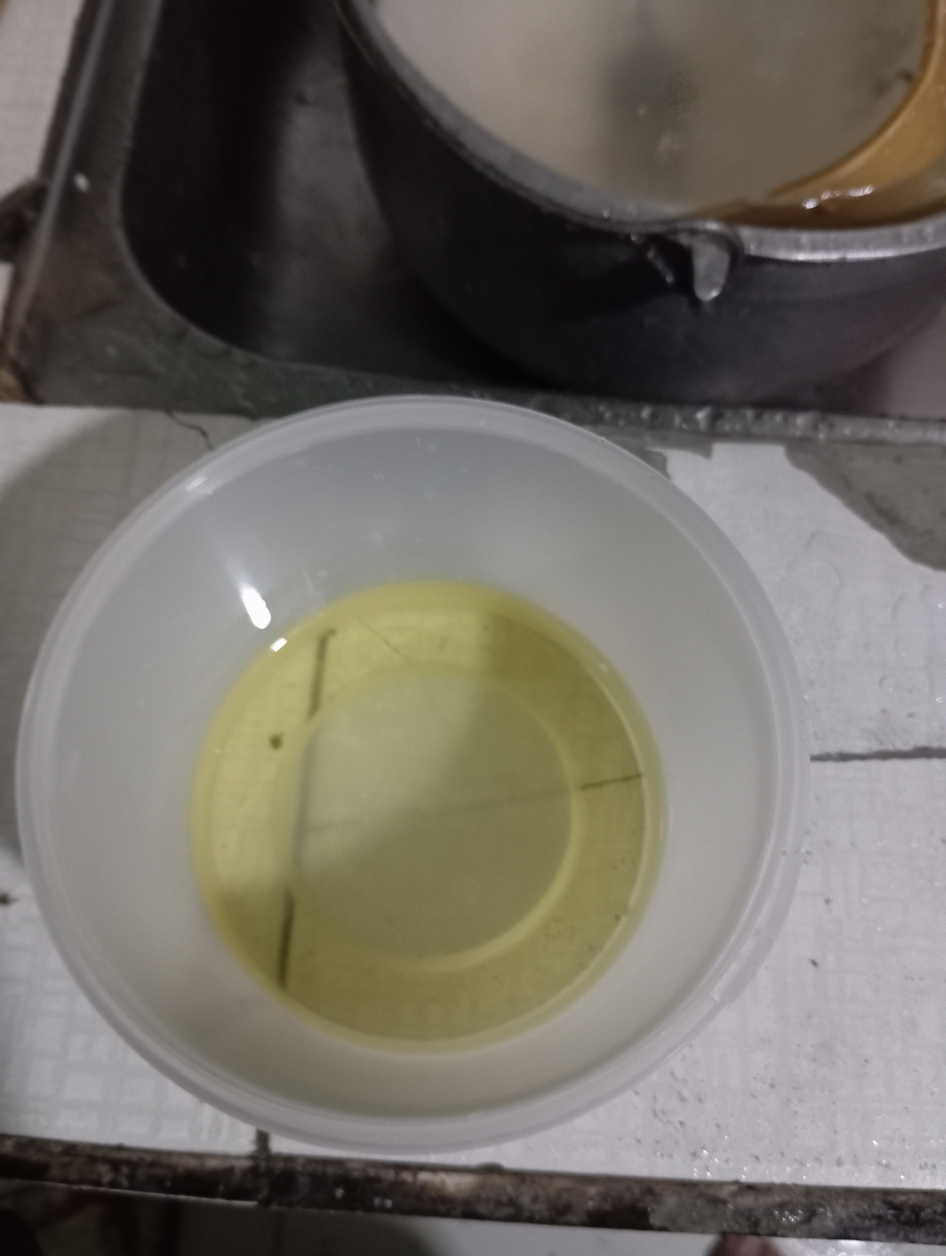reusable: (188, 579, 668, 1044)
